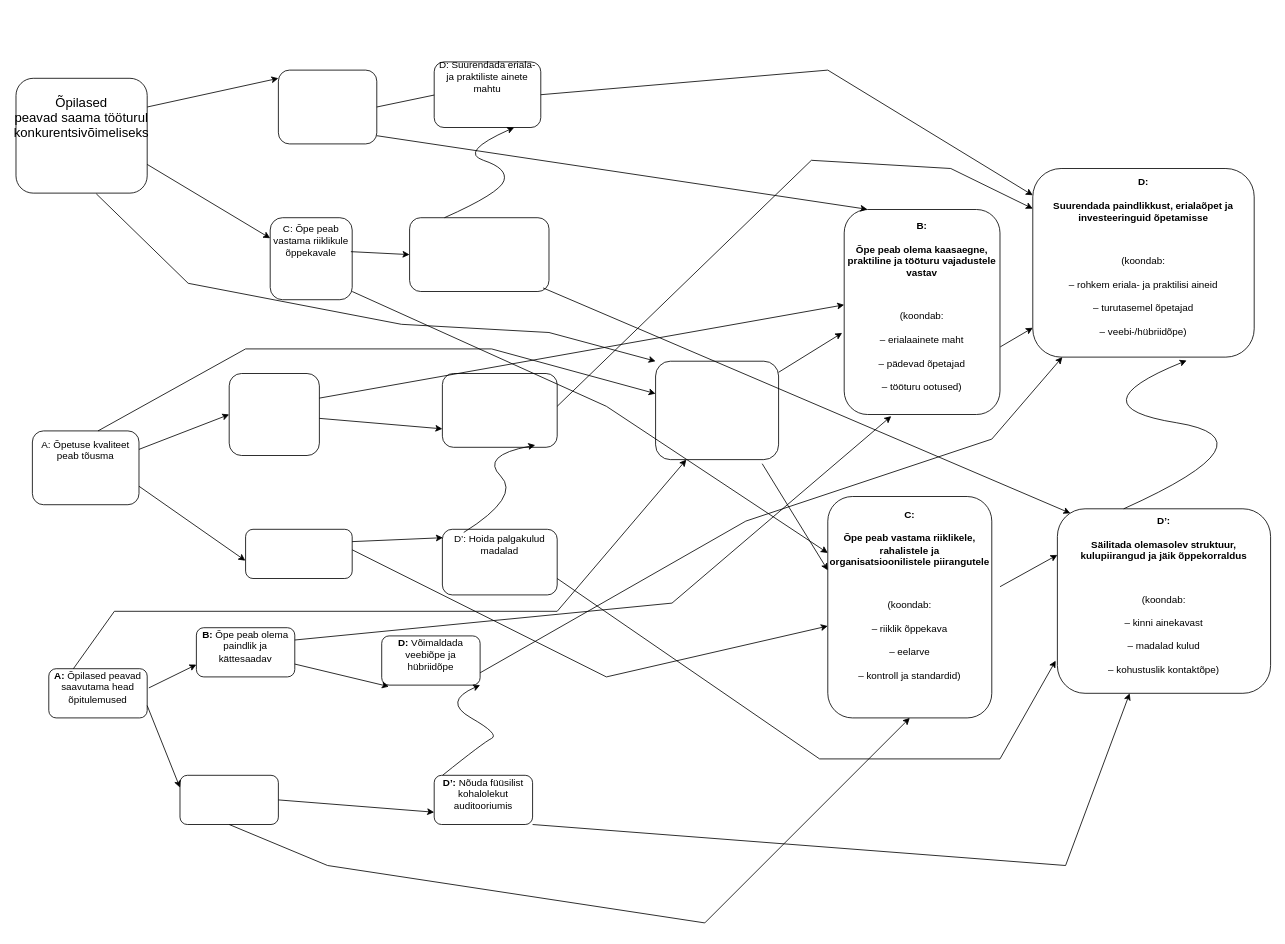
The diagram is 1285 pixels wide and 944 high, and some of its shapes have lost their labels. The centre of each missing label's shape, as x and y in pixels:
A: TPT peab pakkuma kvaliteetset ja tööturule vastavat haridust: the point at 717,410
B: Vajalikud on pädevad erialaõpetajad: the point at 273,414
B: Õpe peab vastama tööturu vajadustele: the point at 327,106
C: Kool peab püsima eelarve piires: the point at 298,553
C: Õppetöö peab olema kontrollitav ja ühtse kvaliteediga: the point at 228,799
D: Palgata turutasemel spetsialistid: the point at 499,410
D’: Hoida kinni riiklikult etteantud ainekavast: the point at 479,254
